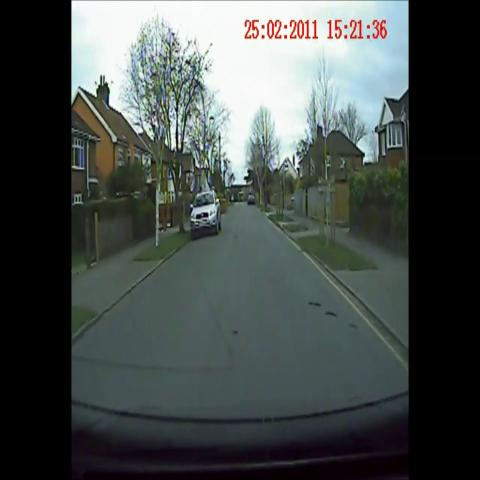pothole: (304, 289, 324, 315), (225, 324, 246, 346), (323, 301, 339, 325), (348, 316, 363, 339)
